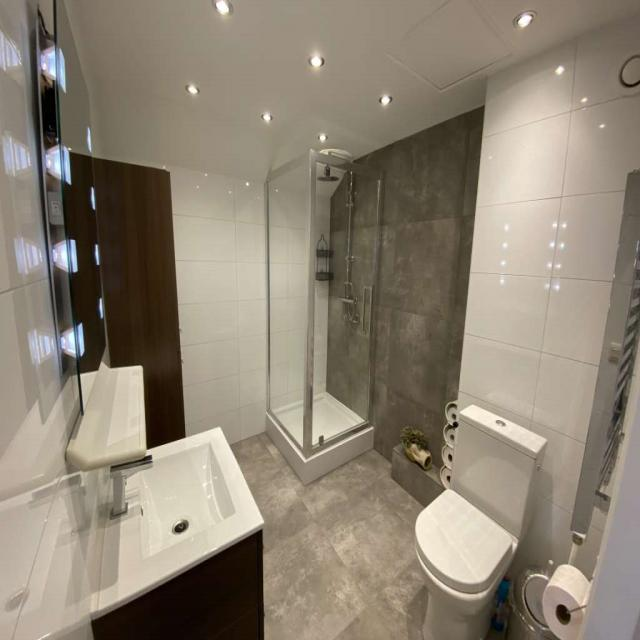designradiator: (571, 165, 640, 548)
douche: (266, 147, 386, 487)
toilet: (415, 405, 548, 640)
wastafel: (88, 424, 266, 618), (92, 527, 266, 640)
